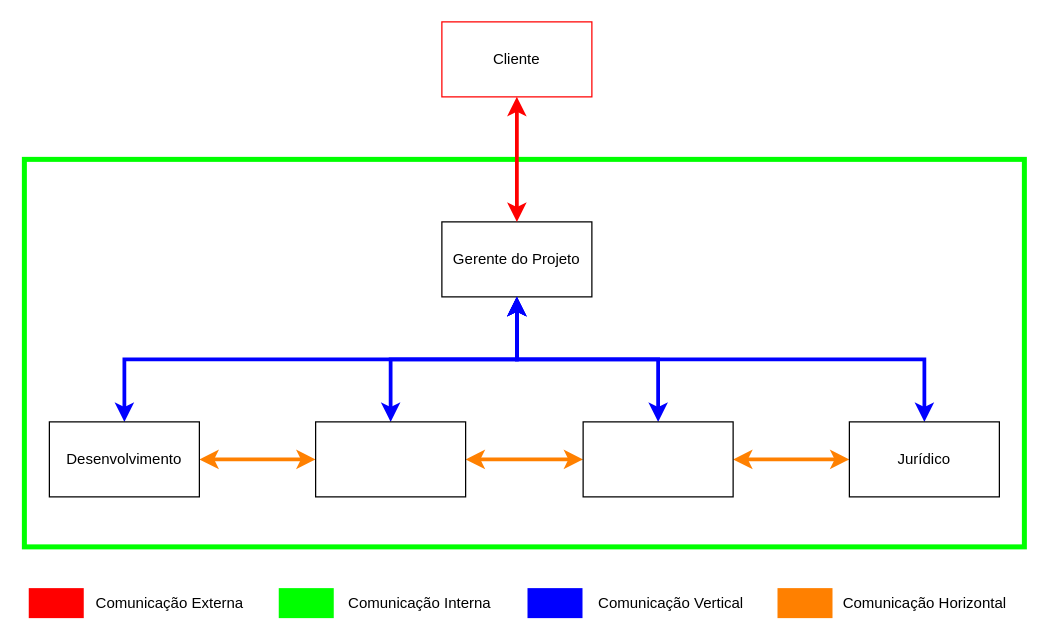
Image size: 1048x644. Some labels were removed from this diagram. The shapes that lost their labels are listed below. From the top down, each one's centre as x and y in pixels, then its label:
(390,459): Teste e Qualidade
(657,459): Custo
